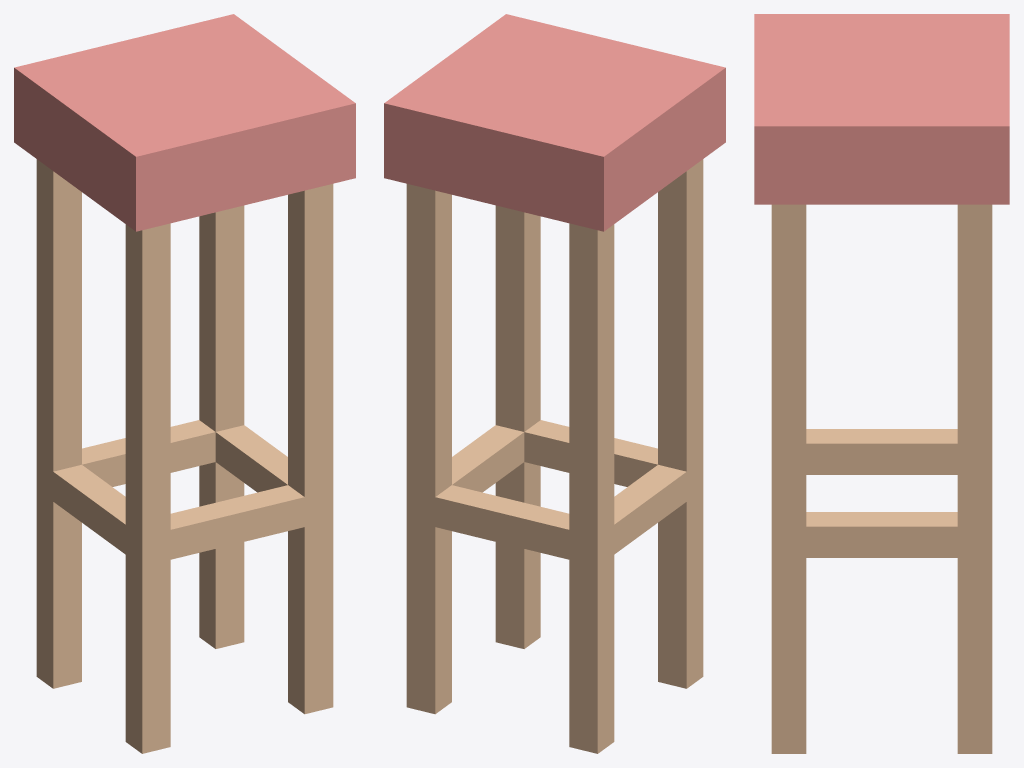
Rendered from stoolBarSquare.glb.
3 renders of one model, left to right at view 1: azimuth 30°, elevation 25°; view 2: azimuth 150°, elevation 25°; view 3: azimuth 270°, elevation 25°, orthographic. The views are drawn at different scales.
Visible parts, largest first — view 1: stoolBarSquare(Clone); view 2: stoolBarSquare(Clone); view 3: stoolBarSquare(Clone).
Part boxes in pixels (x1,y1,x2,y2): stoolBarSquare(Clone): (14, 14, 355, 753); stoolBarSquare(Clone): (384, 14, 725, 753); stoolBarSquare(Clone): (754, 14, 1009, 753).
Bounding box in the file's own units: 0.3116 × 0.8221 × 0.2997.
2 materials, 2 textured.
